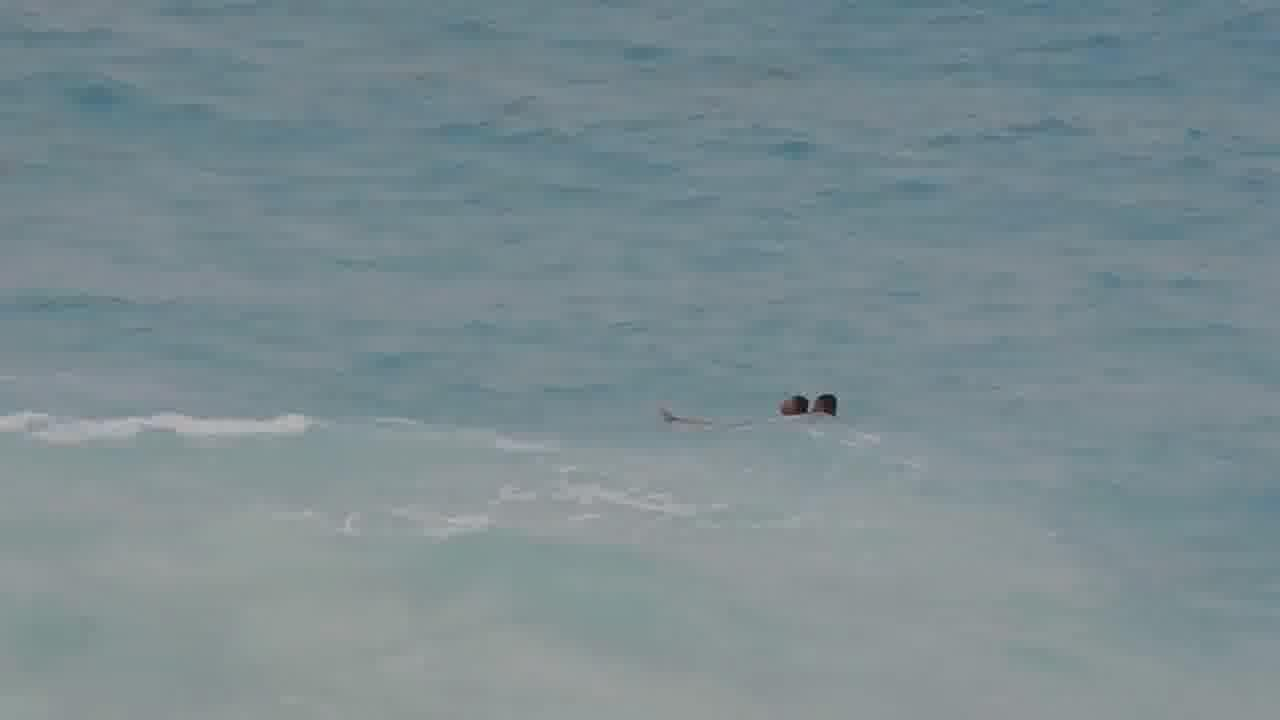swimmer: (654, 382, 806, 430), (807, 387, 861, 426)
